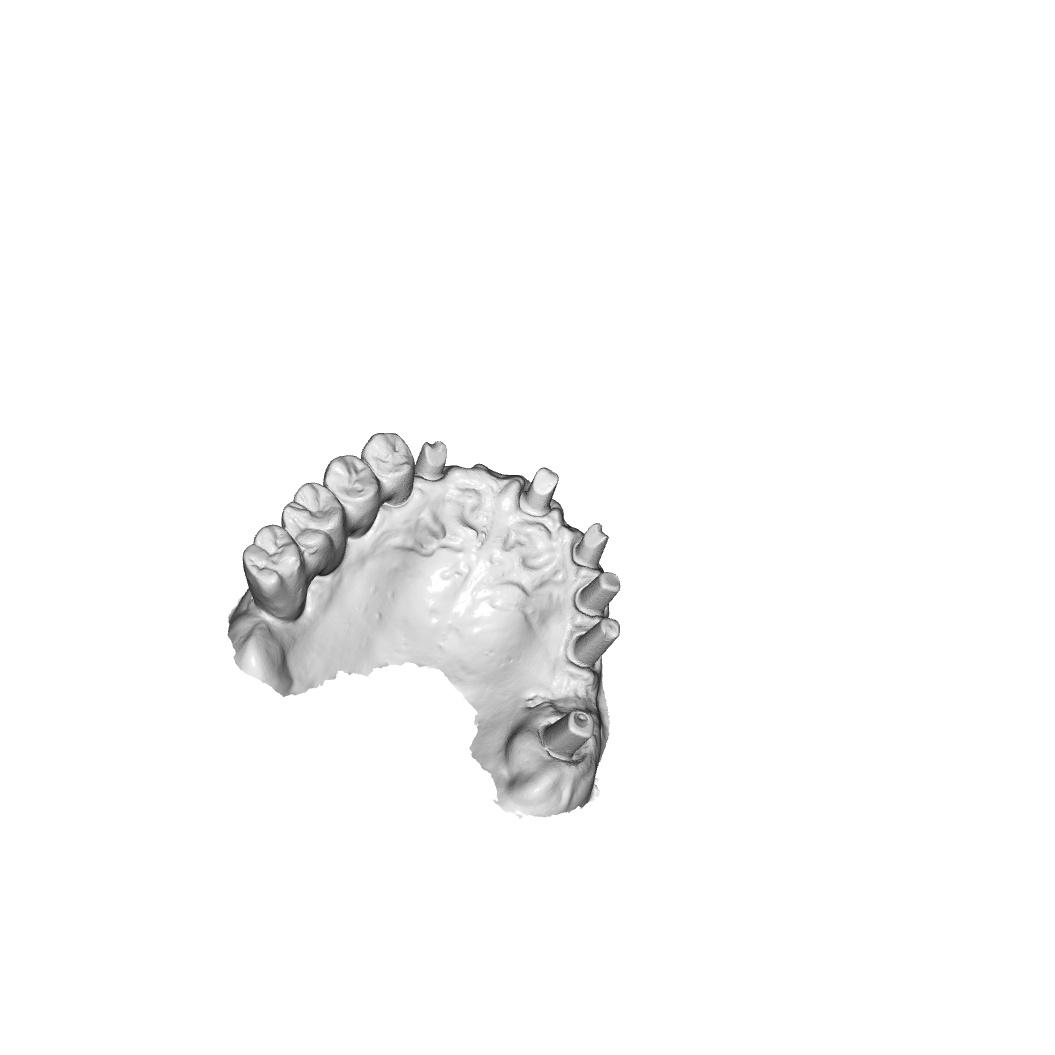abutment: (540, 708, 597, 763), (567, 616, 622, 671), (572, 571, 623, 618), (569, 521, 612, 569), (522, 465, 561, 517), (413, 439, 449, 483)
molar: (241, 524, 308, 622), (280, 481, 348, 577)
premolar: (322, 454, 379, 533), (362, 431, 416, 507)
